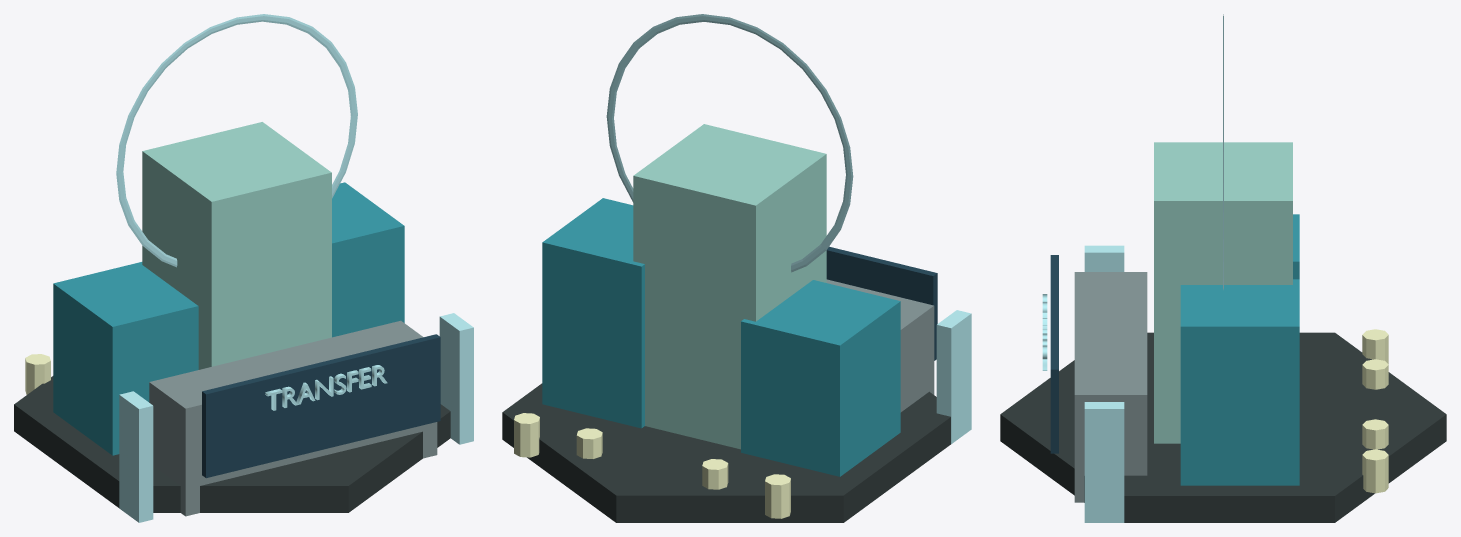
The model's file is transfer-center-lowpoly.glb.
3 views of the same model, side by side, from view 1: azimuth 30°, elevation 25°; view 2: azimuth 150°, elevation 25°; view 3: azimuth 270°, elevation 25° (orthographic). The views are drawn at different scales.
Parts seen in each view (by area): view 1: market_main_tower, market_screen, market_left_office, market_hex_plaza, market_boardroom, market_right_office, market_holo_ring, market_gate_0, market_gate_1, market_sign, market_agent_marker_0; view 2: market_main_tower, market_hex_plaza, market_left_office, market_right_office, market_holo_ring, market_gate_0, market_screen, market_boardroom, market_agent_marker_0, market_agent_marker_3, market_agent_marker_1, market_agent_marker_2; view 3: market_hex_plaza, market_right_office, market_main_tower, market_boardroom, market_gate_1, market_screen, market_agent_marker_3, market_gate_0, market_agent_marker_0, market_agent_marker_1, market_agent_marker_2.
Part boxes in pixels (x1=…): market_main_tower: x1=142, y1=122, x2=331, y2=369; market_screen: x1=202, y1=334, x2=440, y2=478; market_left_office: x1=53, y1=262, x2=198, y2=455; market_hex_plaza: x1=14, y1=376, x2=450, y2=512; market_boardroom: x1=149, y1=320, x2=437, y2=516; market_right_office: x1=332, y1=182, x2=404, y2=337; market_holo_ring: x1=116, y1=14, x2=357, y2=267; market_gate_0: x1=119, y1=391, x2=153, y2=522; market_gate_1: x1=439, y1=313, x2=473, y2=444; market_sign: x1=265, y1=365, x2=387, y2=410; market_agent_marker_0: x1=25, y1=354, x2=50, y2=394; market_main_tower: x1=633, y1=124, x2=826, y2=449; market_hex_plaza: x1=502, y1=383, x2=950, y2=522; market_left_office: x1=741, y1=280, x2=900, y2=476; market_right_office: x1=542, y1=198, x2=644, y2=428; market_holo_ring: x1=606, y1=14, x2=853, y2=272; market_gate_0: x1=936, y1=310, x2=971, y2=444; market_screen: x1=826, y1=246, x2=937, y2=360; market_boardroom: x1=826, y1=279, x2=934, y2=412; market_agent_marker_0: x1=765, y1=474, x2=790, y2=518; market_agent_marker_3: x1=514, y1=413, x2=539, y2=457; market_agent_marker_1: x1=702, y1=459, x2=728, y2=489; market_agent_marker_2: x1=576, y1=428, x2=602, y2=458; market_hex_plaza: x1=1000, y1=332, x2=1446, y2=522; market_right_office: x1=1180, y1=279, x2=1299, y2=485; market_main_tower: x1=1154, y1=142, x2=1292, y2=443; market_boardroom: x1=1074, y1=272, x2=1147, y2=502; market_gate_1: x1=1084, y1=402, x2=1124, y2=522; market_screen: x1=1050, y1=255, x2=1058, y2=453; market_agent_marker_3: x1=1362, y1=449, x2=1388, y2=493; market_gate_0: x1=1084, y1=245, x2=1124, y2=271; market_agent_marker_0: x1=1362, y1=329, x2=1388, y2=364; market_agent_marker_1: x1=1362, y1=359, x2=1388, y2=389; market_agent_marker_2: x1=1362, y1=419, x2=1388, y2=449.
Bounding box in the file's own units: 2.34 × 2.76 × 2.7.
